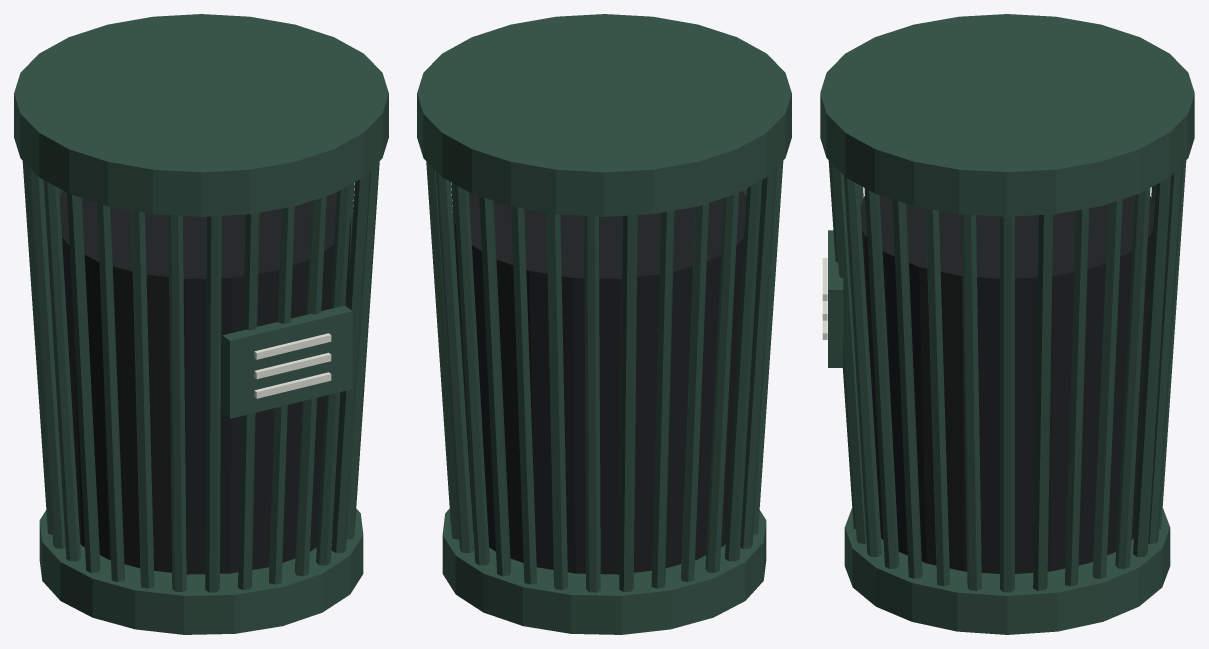
The model's file is litter-bin.glb.
The picture shows the model from 3 angles, left to right: view 1: azimuth 30°, elevation 25°; view 2: azimuth 150°, elevation 25°; view 3: azimuth 270°, elevation 25°; orthographic projection.
Visible parts, largest first — view 1: litter-bin · illustrative street object / street bin green, litter-bin · illustrative street object / rubber, litter-bin · illustrative street object / sign white; view 2: litter-bin · illustrative street object / street bin green, litter-bin · illustrative street object / rubber; view 3: litter-bin · illustrative street object / street bin green, litter-bin · illustrative street object / rubber.
Boxes of the visible parts, box(x1,y1,x2,y2) form: litter-bin · illustrative street object / street bin green: box(14, 14, 388, 634); litter-bin · illustrative street object / rubber: box(59, 191, 351, 574); litter-bin · illustrative street object / sign white: box(254, 333, 331, 398); litter-bin · illustrative street object / street bin green: box(417, 14, 791, 634); litter-bin · illustrative street object / rubber: box(454, 191, 746, 574); litter-bin · illustrative street object / street bin green: box(820, 14, 1194, 634); litter-bin · illustrative street object / rubber: box(860, 195, 1154, 573).
Size of the model in its own units: 0.61 by 0.85 by 0.61.
